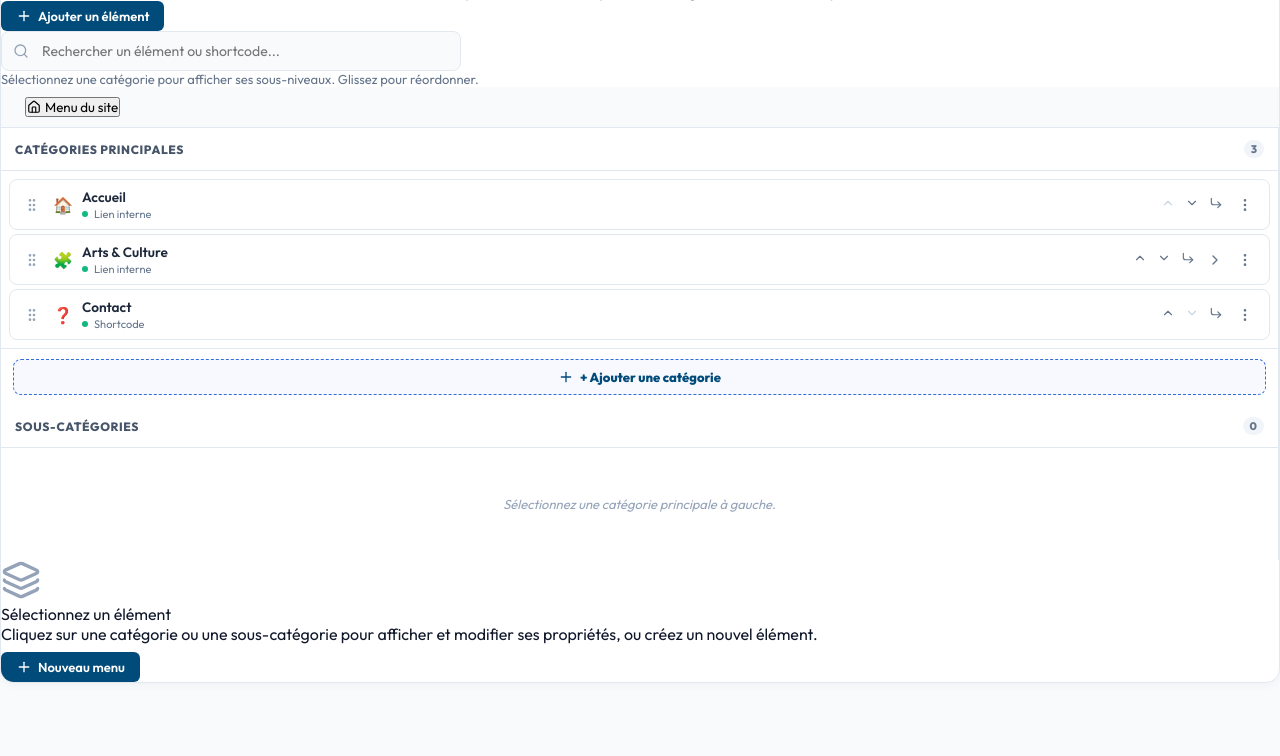
it: MenuManager Column-Based Navigation Tests › global search filters tree and displays hierarchical path, navigating on click
The image size is (1280, 756).
Type "Renaissance" into the field with placeholder "Rechercher un élément ou shortcode...".
click(231, 51); type("Renaissance")  # box [1, 31, 461, 71]
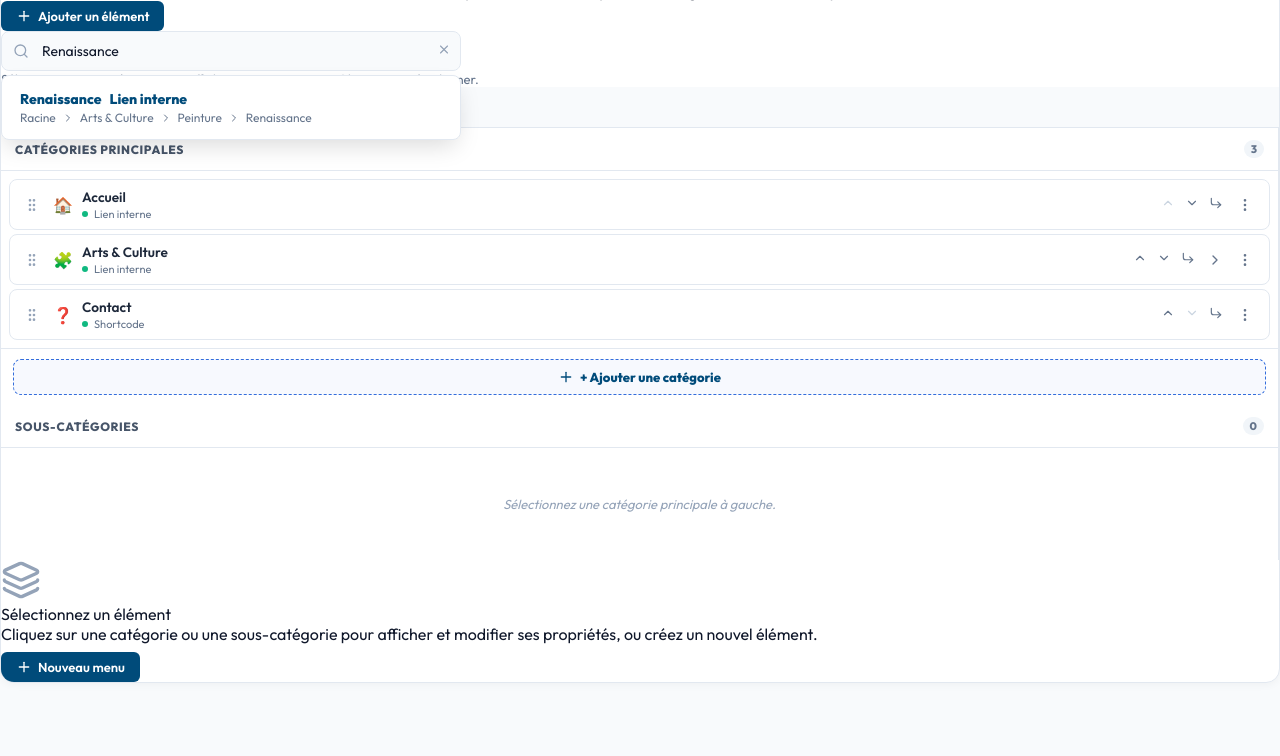
Expected: the option is shown
Expected: the option shows "Renaissance"
Note: Click search result to navigate directly
Click the option.
click(166, 108)  # box [20, 90, 312, 125]
(page scrolled)
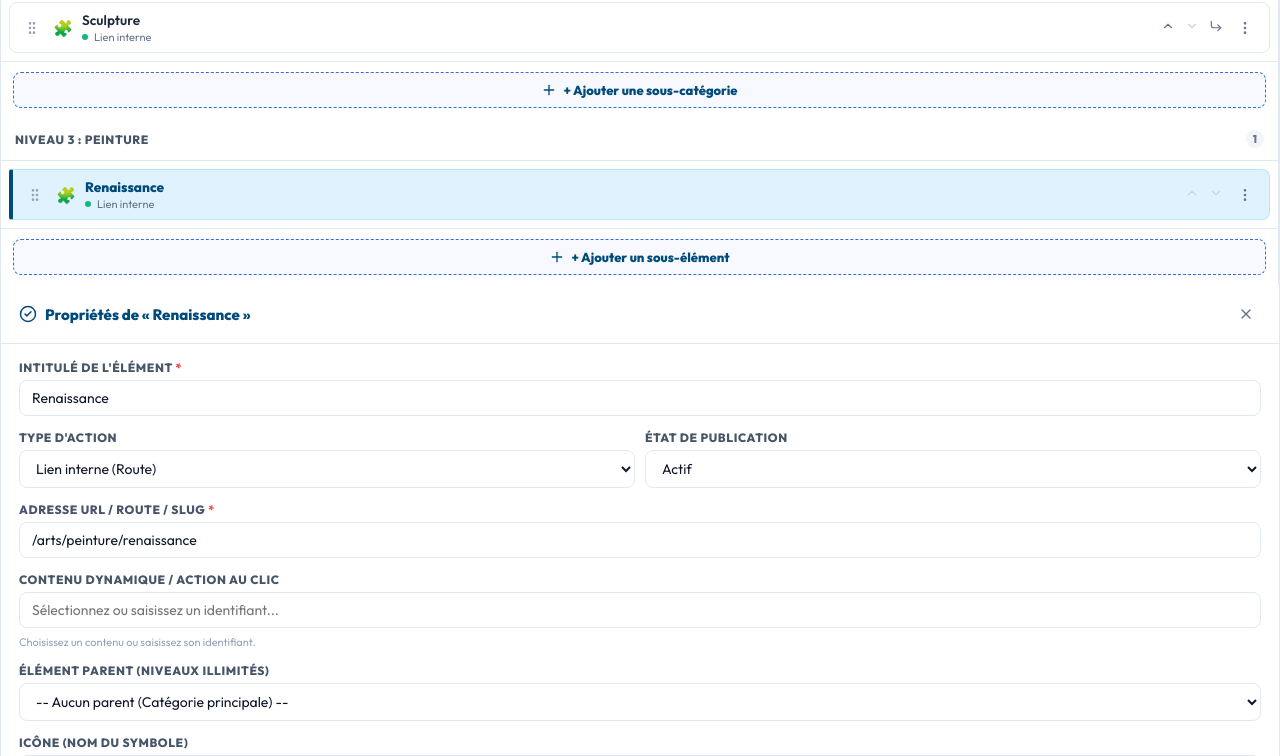
Expected: the field showing "Renaissance" is shown, [19, 380, 1261, 416]
